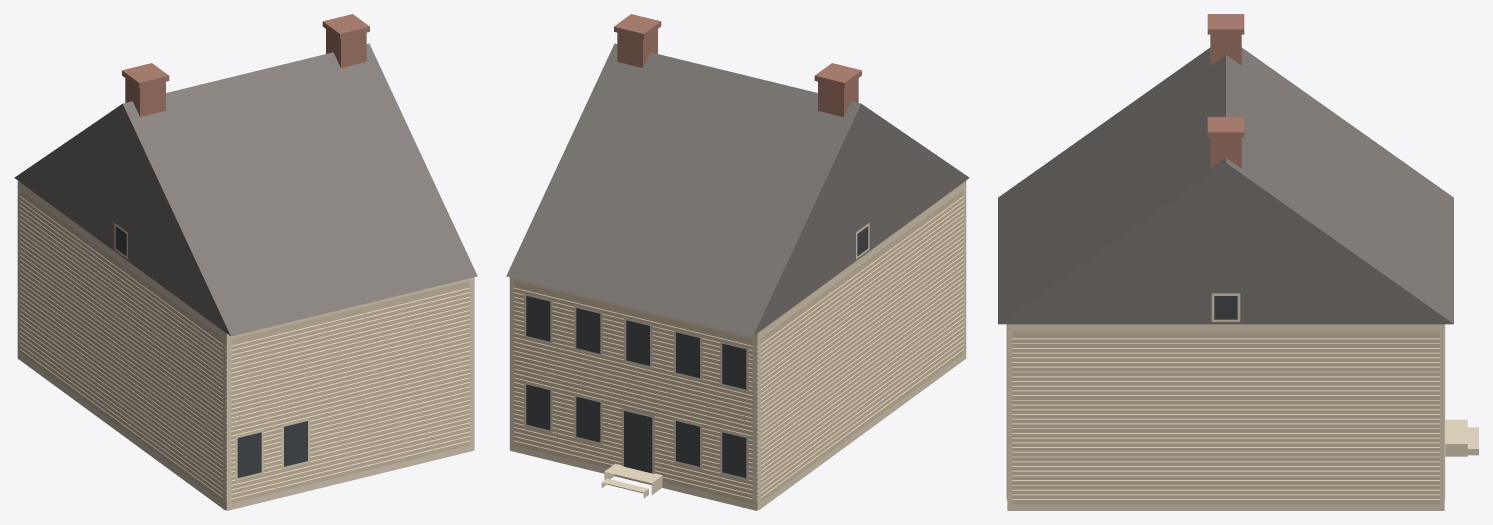
File: recon_1835_blk_randolph_clark_h2_02__inferred_1835.glb
3 renders of one model, left to right at view 1: azimuth 30°, elevation 25°; view 2: azimuth 150°, elevation 25°; view 3: azimuth 270°, elevation 25°, orthographic. The views are drawn at different scales.
Visible parts, largest first — view 1: recon_1835_blk_randolph_clark_h2_02__inferred_1835; view 2: recon_1835_blk_randolph_clark_h2_02__inferred_1835; view 3: recon_1835_blk_randolph_clark_h2_02__inferred_1835.
Part boxes in pixels (box(x1,y1,x2,y2)): recon_1835_blk_randolph_clark_h2_02__inferred_1835: box(14, 14, 477, 510); recon_1835_blk_randolph_clark_h2_02__inferred_1835: box(506, 14, 969, 510); recon_1835_blk_randolph_clark_h2_02__inferred_1835: box(998, 14, 1478, 510).
Bounding box in the file's own units: 8.14 × 11.09 × 12.92.
